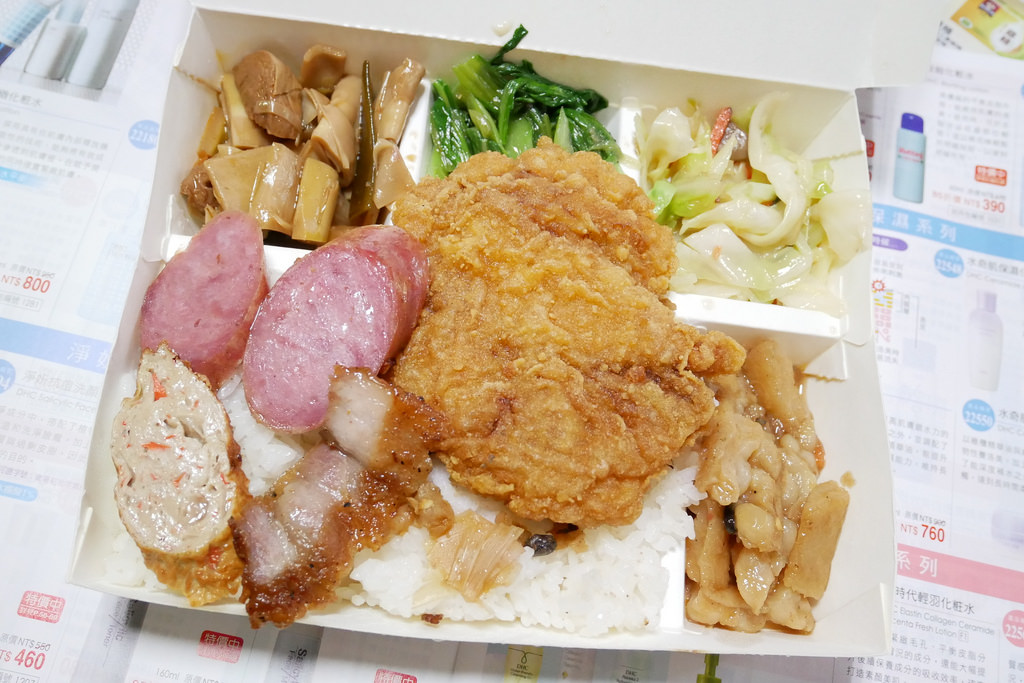chinese_cabbage: (655, 102, 834, 290)
chinese_sausage: (134, 230, 421, 376)
fried_chicken: (397, 143, 728, 545)
